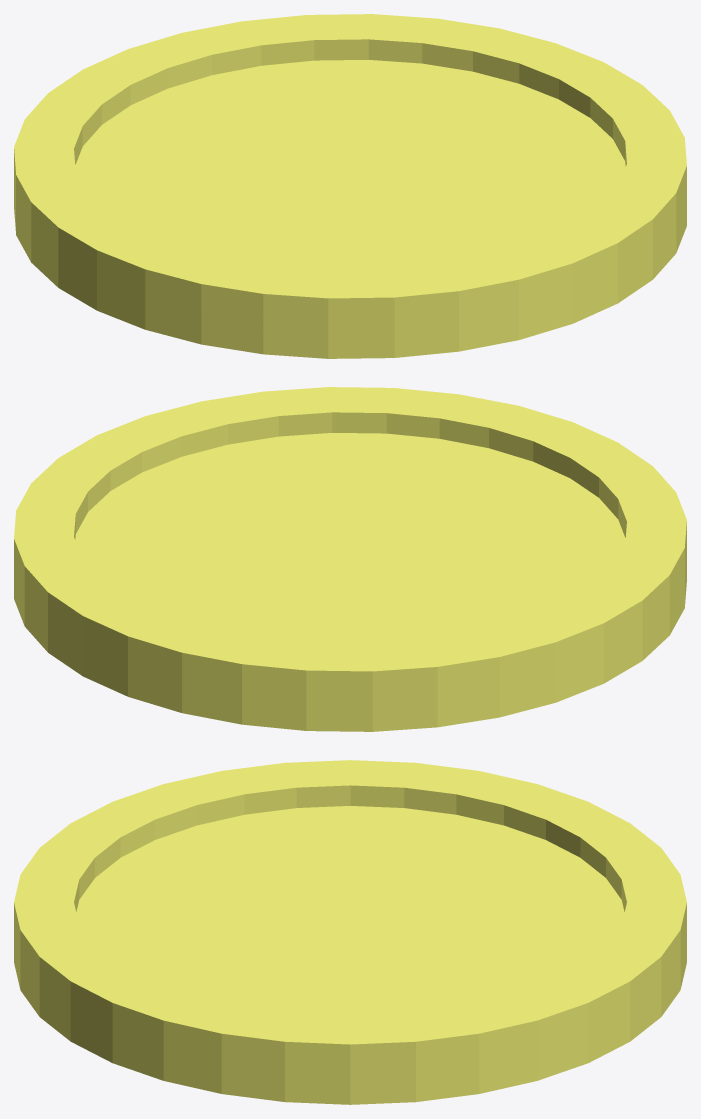
File: Coin.fbx
3 views of the same model, one above another, from view 1: azimuth 30°, elevation 25°; view 2: azimuth 150°, elevation 25°; view 3: azimuth 270°, elevation 25° (orthographic).
Parts seen in each view (by area): view 1: Cylinder; view 2: Cylinder; view 3: Cylinder.
Boxes of the visible parts, left/top/right/bottom form: Cylinder: left=14, top=14, right=686, bottom=358; Cylinder: left=14, top=387, right=686, bottom=731; Cylinder: left=14, top=760, right=686, bottom=1104.
Bounding box in the file's own units: 200 × 19.79 × 200.
